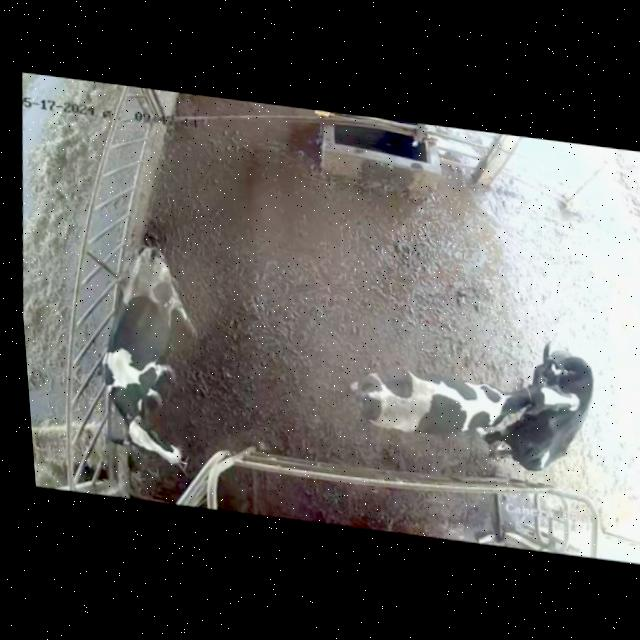propping: (490, 367, 597, 439)
stand: (79, 231, 208, 477), (489, 328, 616, 490)
